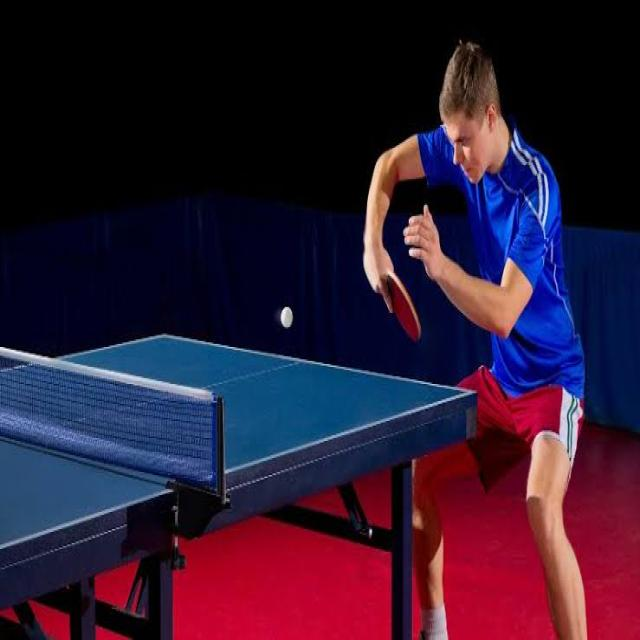TT Net: (0, 343, 227, 505)
TT Racket: (375, 261, 427, 355)
TT Table: (1, 333, 474, 553)
